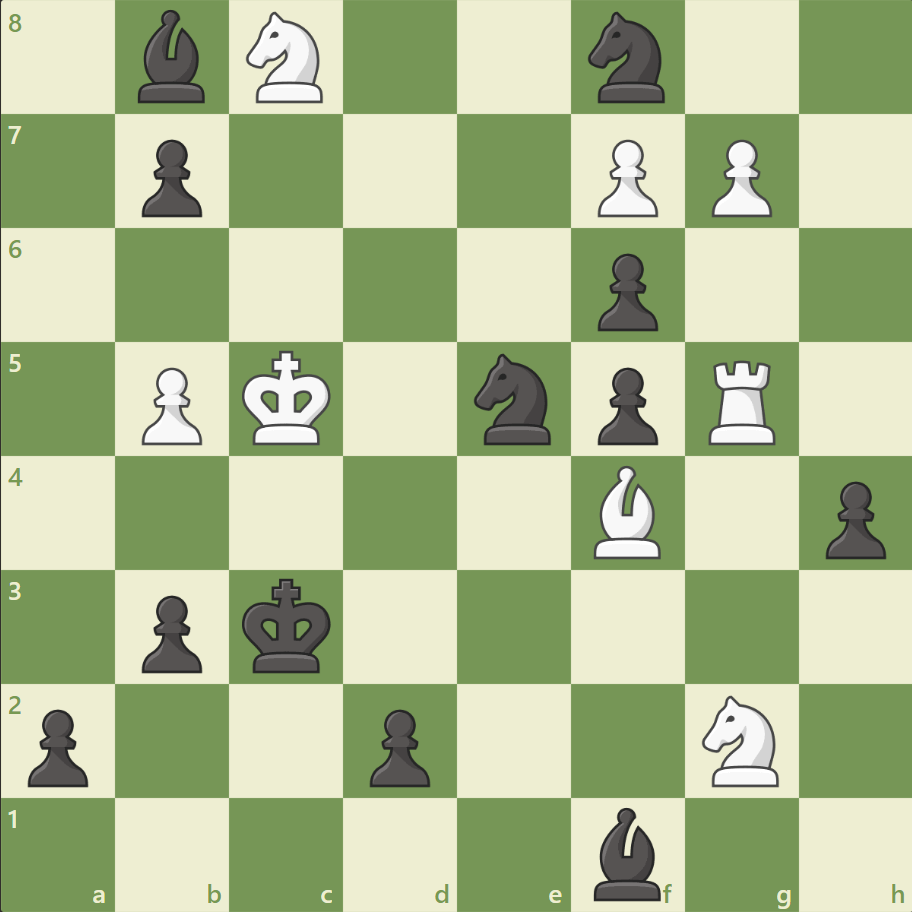B: (585, 460, 669, 563)
K: (238, 344, 338, 452)
N: (238, 7, 335, 110), (692, 688, 789, 791)
P: (701, 132, 776, 223), (133, 359, 208, 450), (588, 132, 662, 223)
R: (700, 352, 783, 449)
b: (131, 6, 215, 109), (585, 801, 669, 904)
k: (238, 571, 338, 679)
n: (579, 7, 676, 110), (465, 348, 562, 450)
p: (133, 132, 208, 223), (133, 586, 208, 677), (20, 700, 95, 791), (588, 246, 662, 337), (588, 359, 662, 450), (815, 473, 889, 564), (361, 700, 435, 791)
